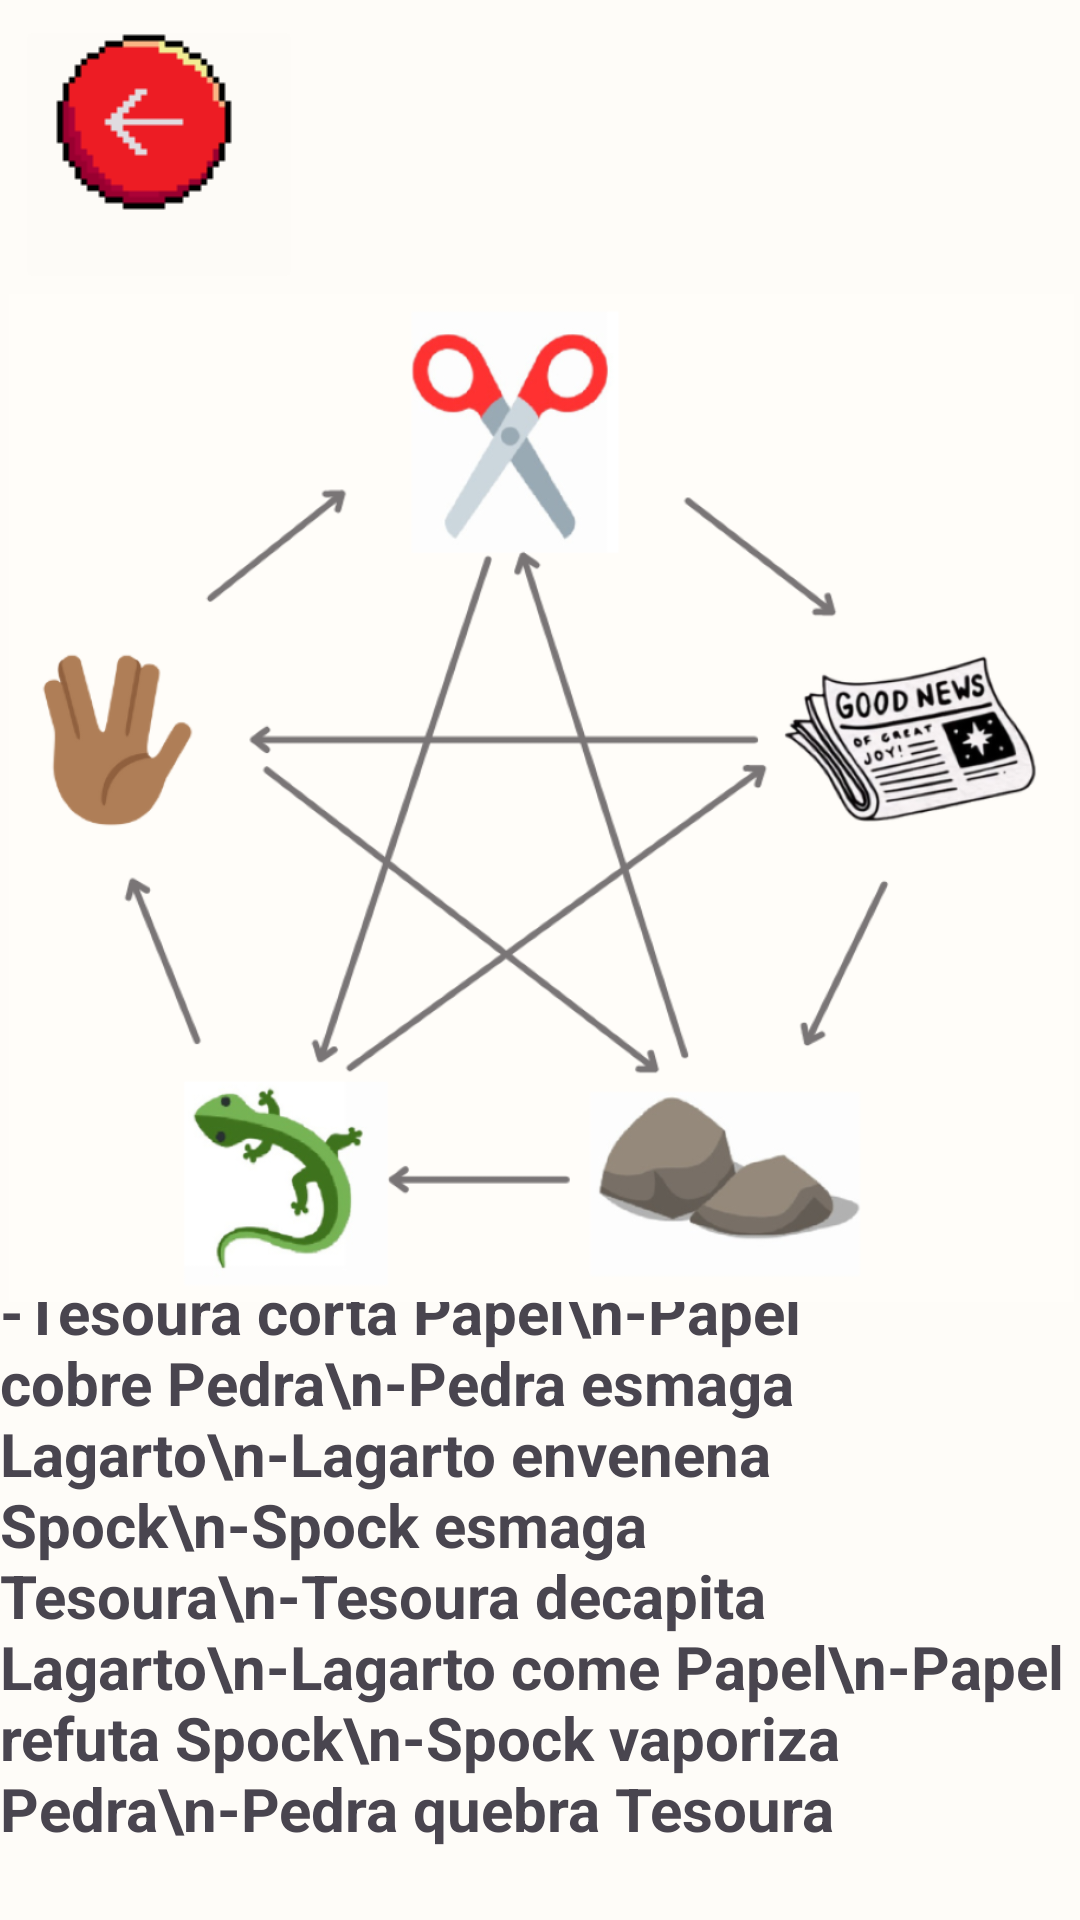

Where icons sit on this 1080 x 1920 app screen, as (x1, y1, x2, y2):
voltarjokenpo: (56, 34, 232, 210)
